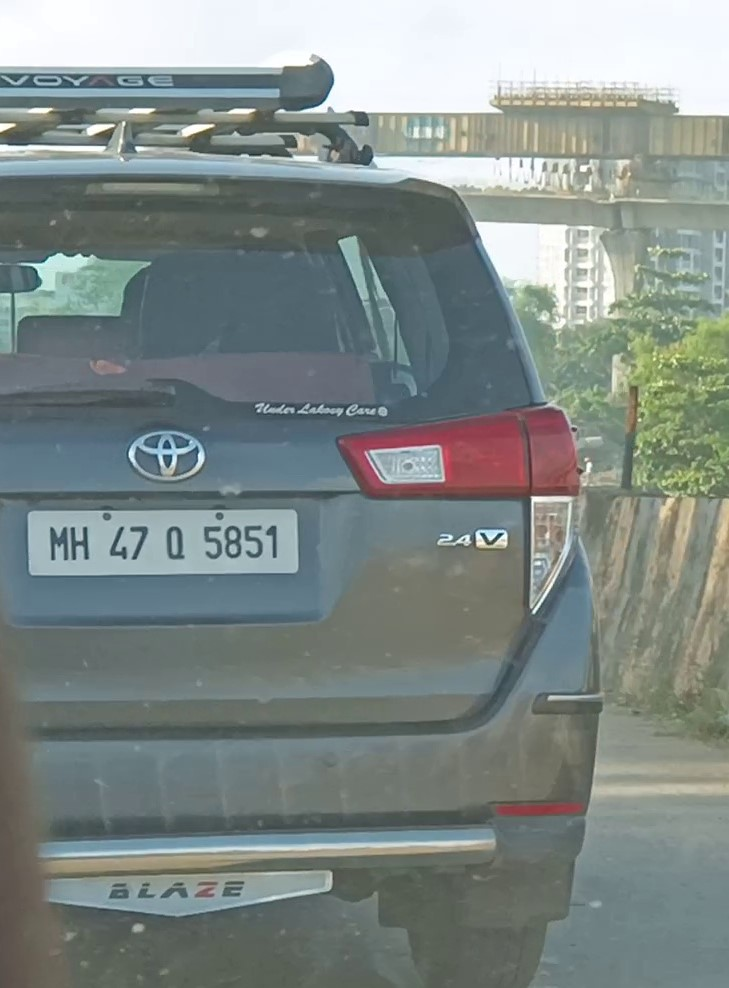MH4705851: (28, 507, 303, 577)
